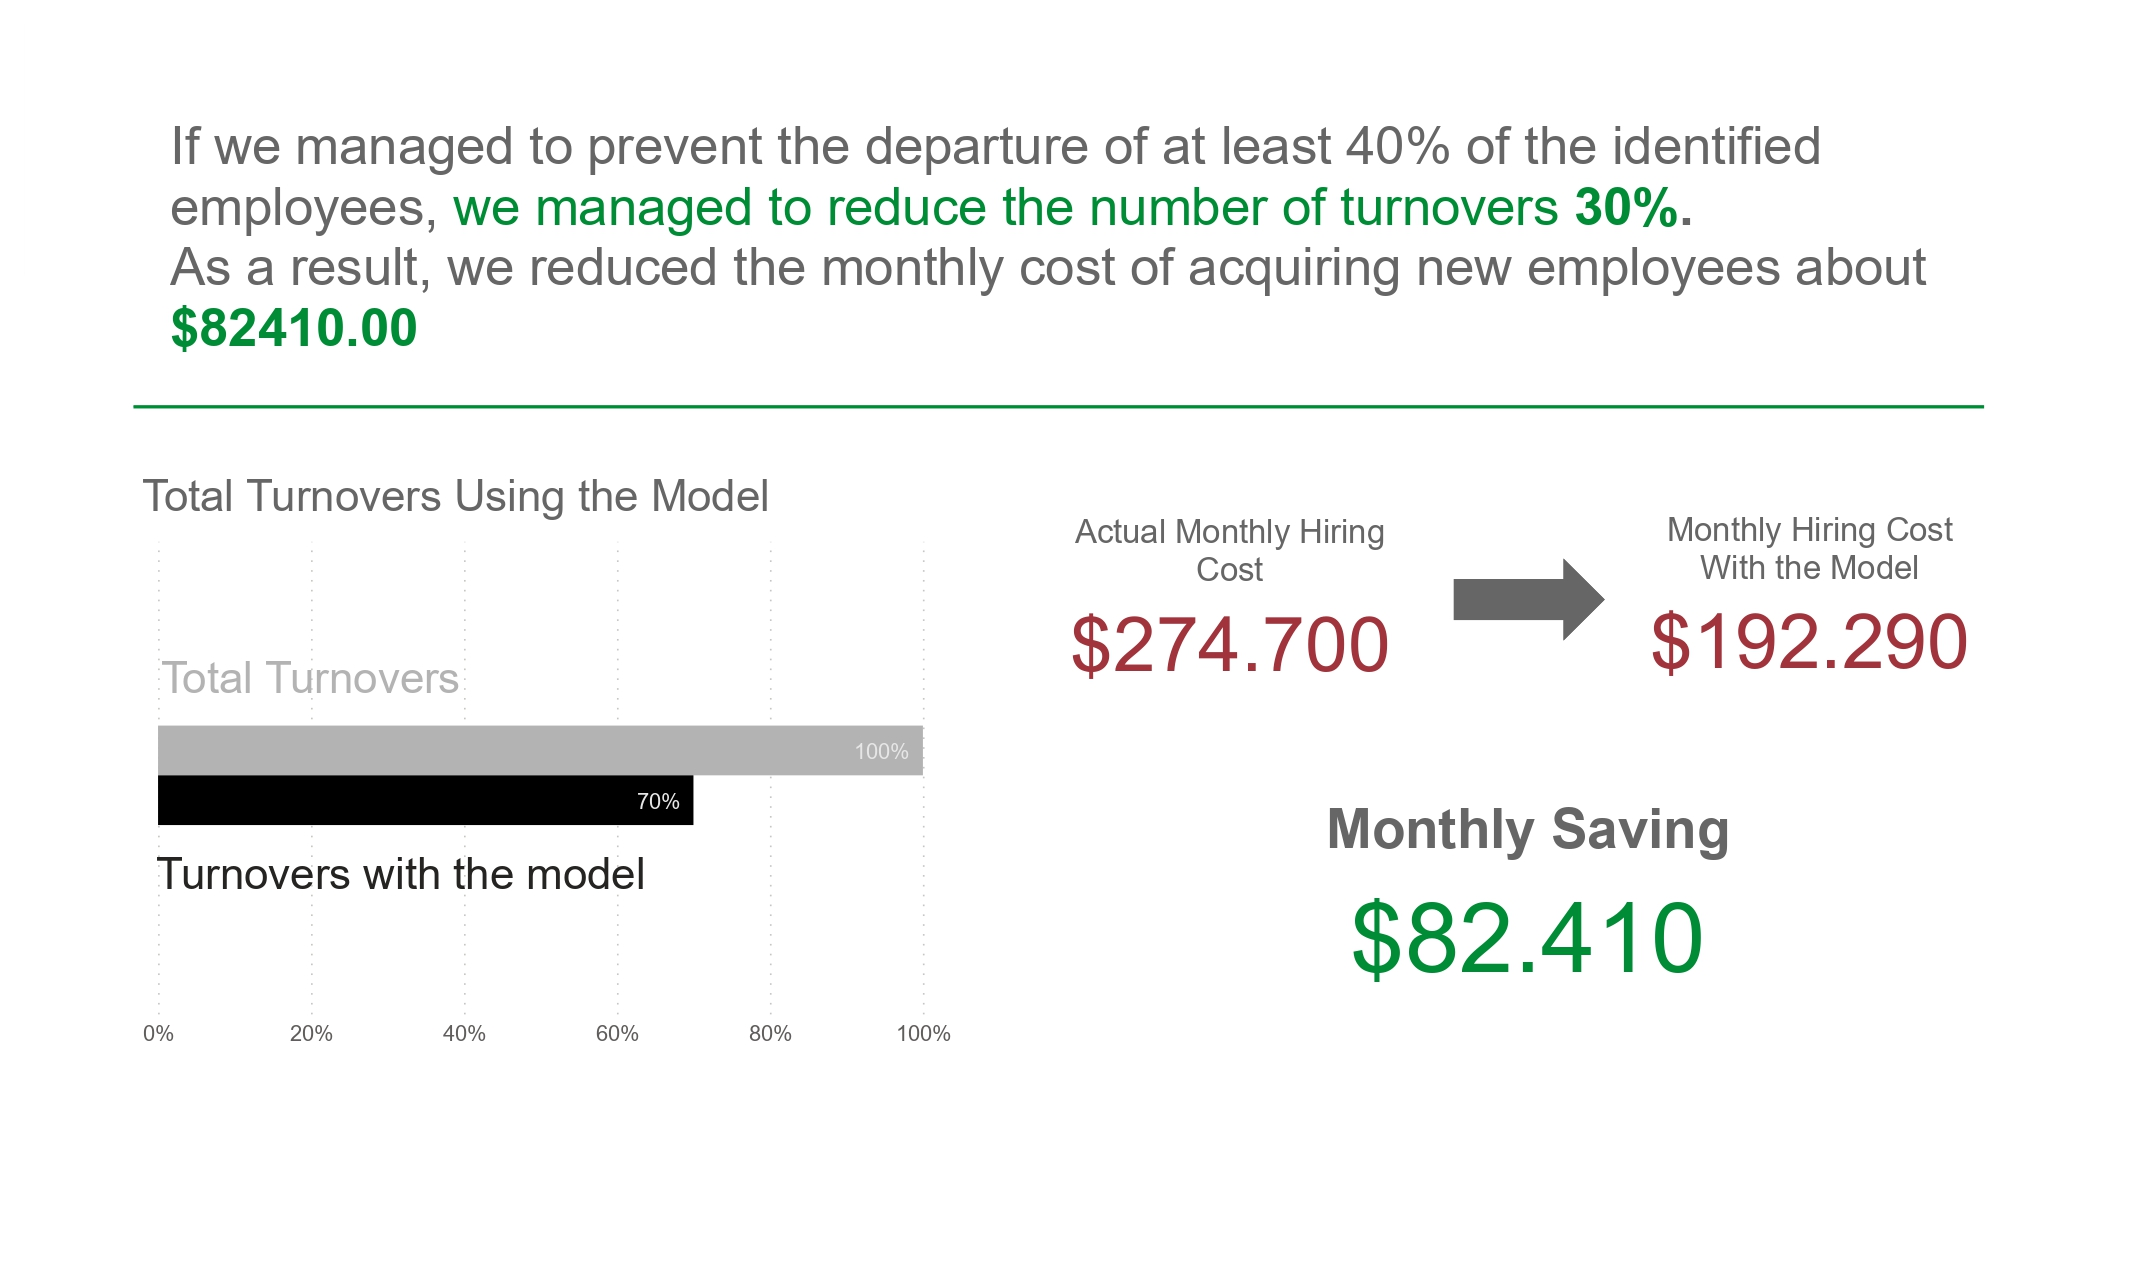

This screenshot's page, from the dashboard's own definition file:
{"tool":"powerbi","page":{"name":"Página 6","canvas":[1280,720],"ordinal":5},"visuals":[{"type":"textbox","box":[83.4,37.4,1110.9,159.5],"z":0},{"type":"card","title":"Actual Monthly Hiring Cost","fields":{"Values":["Employee.monthly_cost"]},"box":[626.6,284,215.6,109.2],"z":1},{"type":"card","title":"Monthly Saving","fields":{"Values":["Employee.new_monthly_cost"]},"box":[778.9,458.9,274.5,122.2],"z":2},{"type":"card","title":"Monthly Hiring Cost With the Model","fields":{"Values":["Employee.real_monthly_cost"]},"box":[974.4,283.6,227.1,109.2],"z":3},{"type":"clusteredBarChart","title":"Total Turnovers Using the Model","fields":{"Y":["Employee.ahundred","Employee.trinta"]},"box":[66.1,258.7,543.2,359.3],"z":4},{"type":"textbox","box":[77.6,365,247.2,43.1],"z":5},{"type":"textbox","box":[74.7,484.3,334.9,43.1],"z":6},{"type":"shape","box":[870.9,312.3,92,50.3],"z":7},{"type":"shape","box":[66.1,196.9,1128.1,44.6],"z":8}]}

Visuals, with their boxes on the page's 1280x720 design canvas (x1, y1, x2, y2). These are canvas units, not pixel positions in the 2150x1275 screenshot, which may show the page scaled, cropped or inside an application window:
textbox: locate(83, 37, 1194, 197)
"Actual Monthly Hiring Cost" card: locate(627, 284, 842, 393)
"Monthly Saving" card: locate(779, 459, 1053, 581)
"Monthly Hiring Cost With the Model" card: locate(974, 284, 1202, 393)
"Total Turnovers Using the Model" clusteredBarChart: locate(66, 259, 609, 618)
textbox: locate(78, 365, 325, 408)
textbox: locate(75, 484, 410, 527)
shape: locate(871, 312, 963, 363)
shape: locate(66, 197, 1194, 242)
